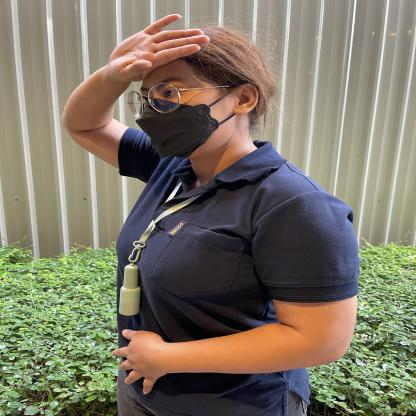Sick: (27, 2, 238, 134)
